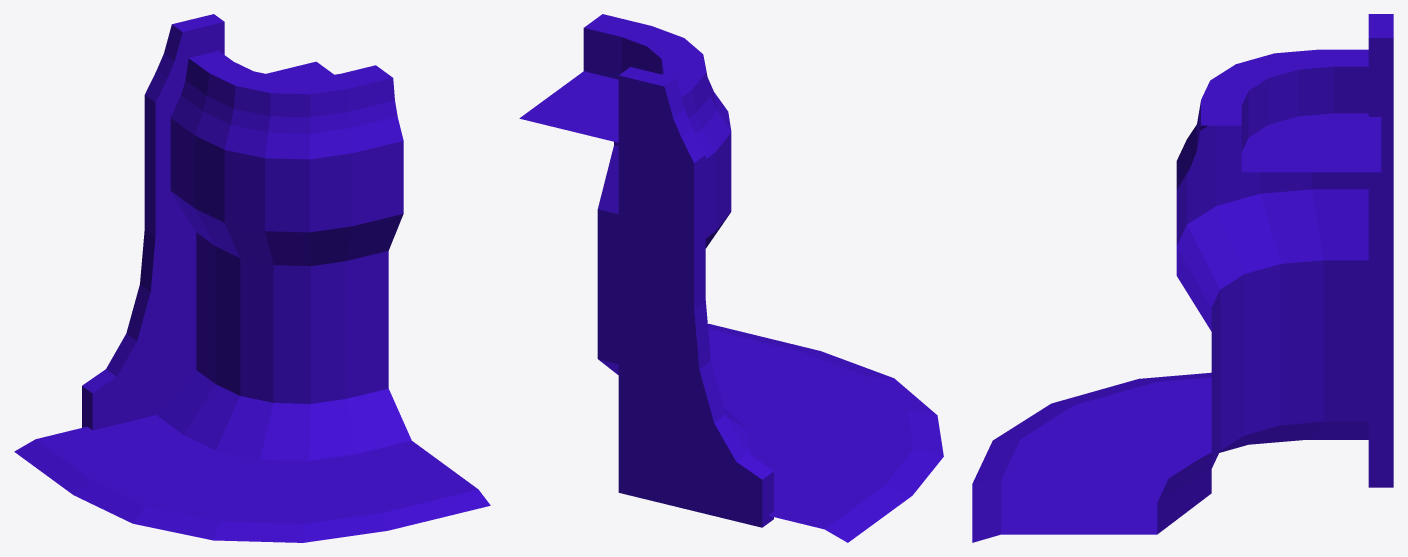
File: WallSection_Corner_Outer.fbx
3 renders of one model, left to right at view 1: azimuth 30°, elevation 25°; view 2: azimuth 150°, elevation 25°; view 3: azimuth 270°, elevation 25°, orthographic. The views are drawn at different scales.
Parts seen in each view (by area): view 1: WallSection_Corner_Outer; view 2: WallSection_Corner_Outer; view 3: WallSection_Corner_Outer.
Part boxes in pixels (bbox=[...]): WallSection_Corner_Outer: bbox=[14, 14, 490, 542]; WallSection_Corner_Outer: bbox=[519, 14, 943, 542]; WallSection_Corner_Outer: bbox=[972, 14, 1393, 542].
Bounding box in the file's own units: 200 × 243 × 206.
